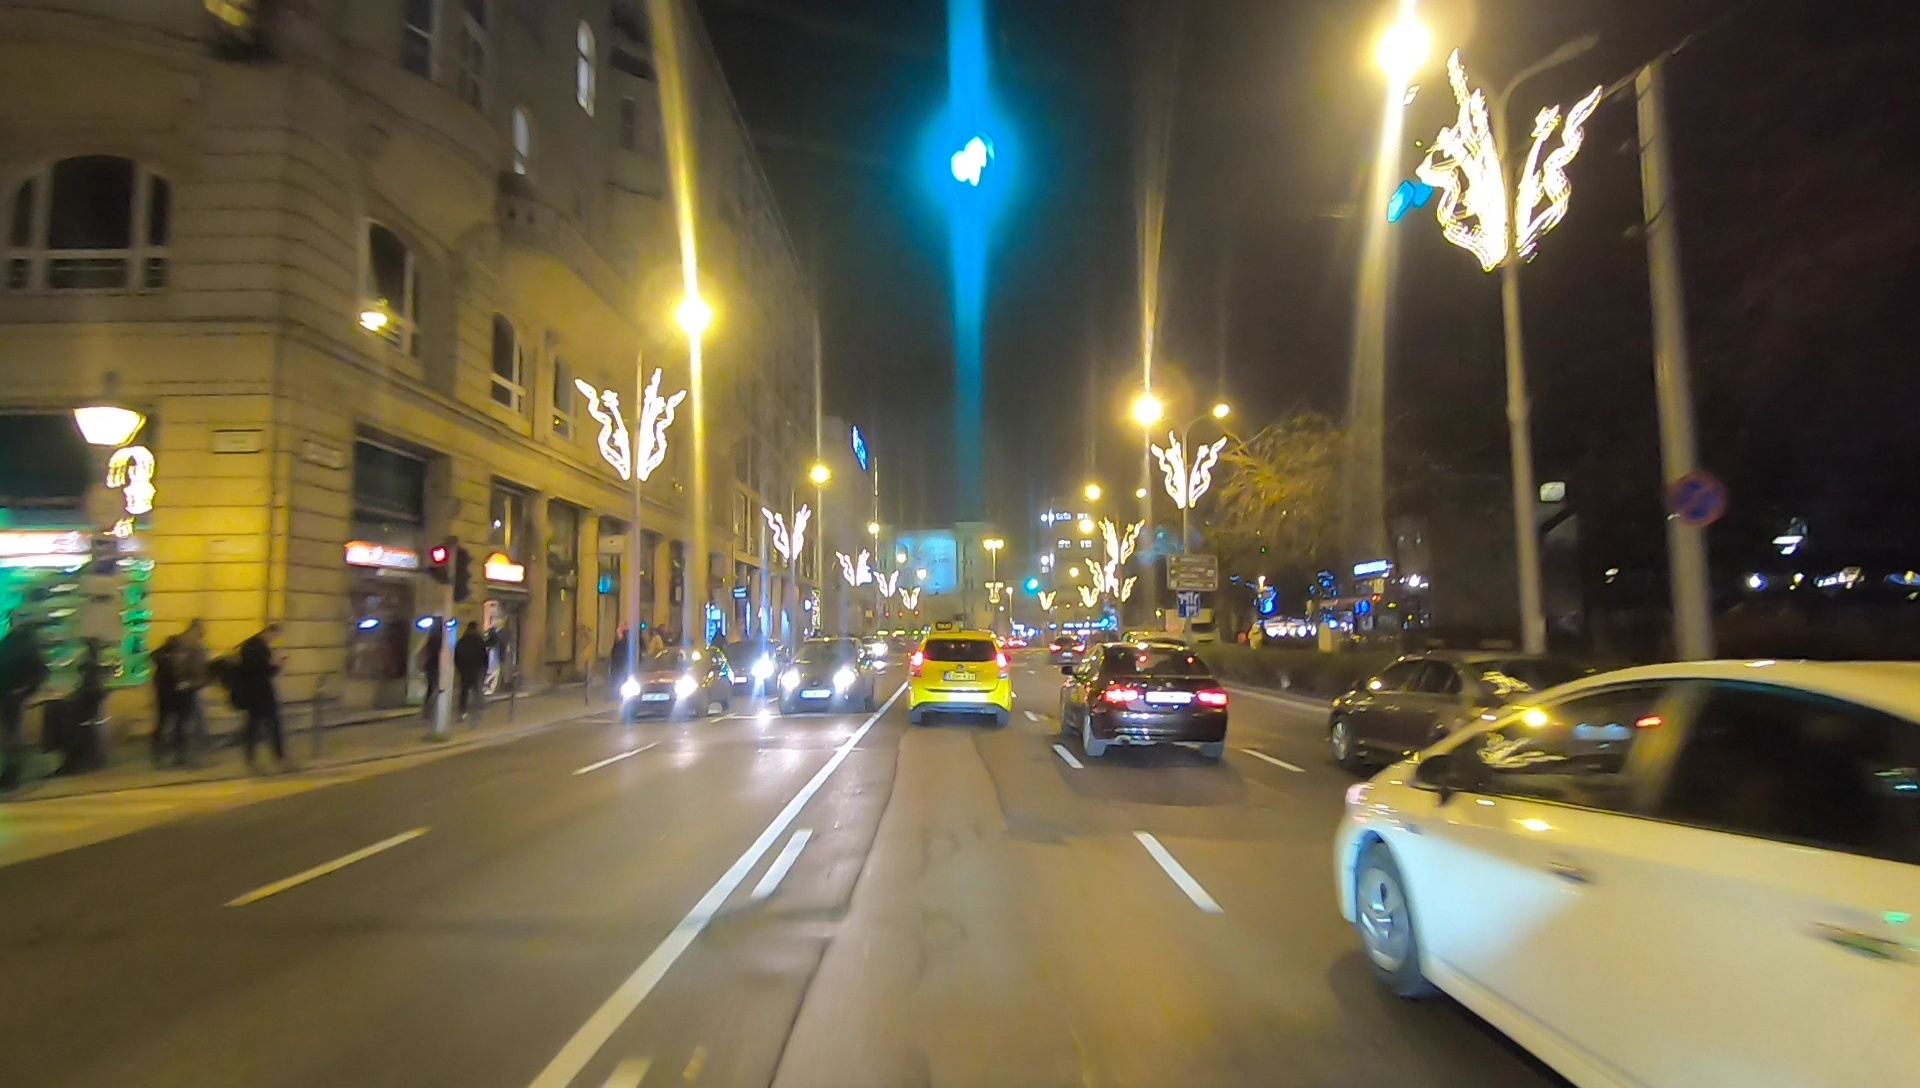person: (230, 626, 297, 778), (149, 619, 212, 780), (1, 604, 45, 784), (419, 619, 451, 728), (458, 621, 488, 728)
